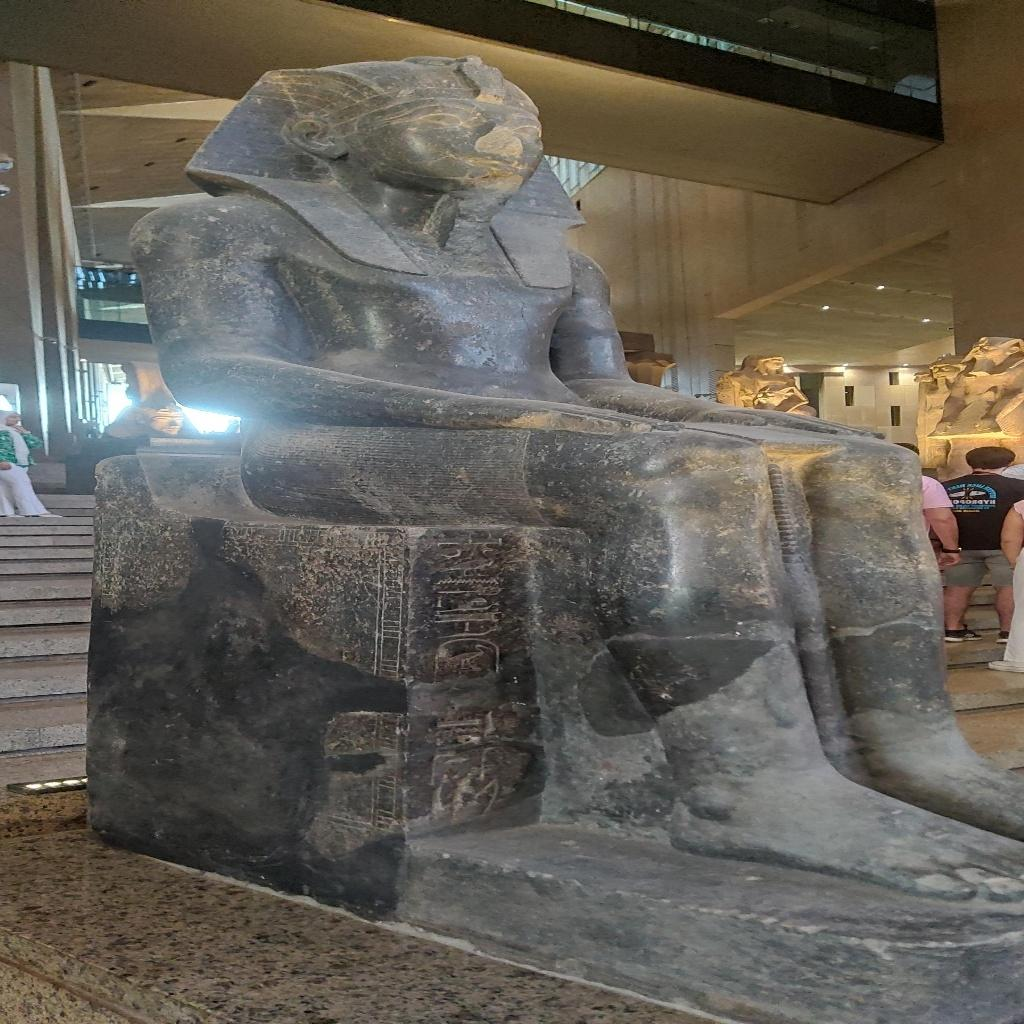Seated Statue of Thutmose III: (129, 51, 1024, 1016)
